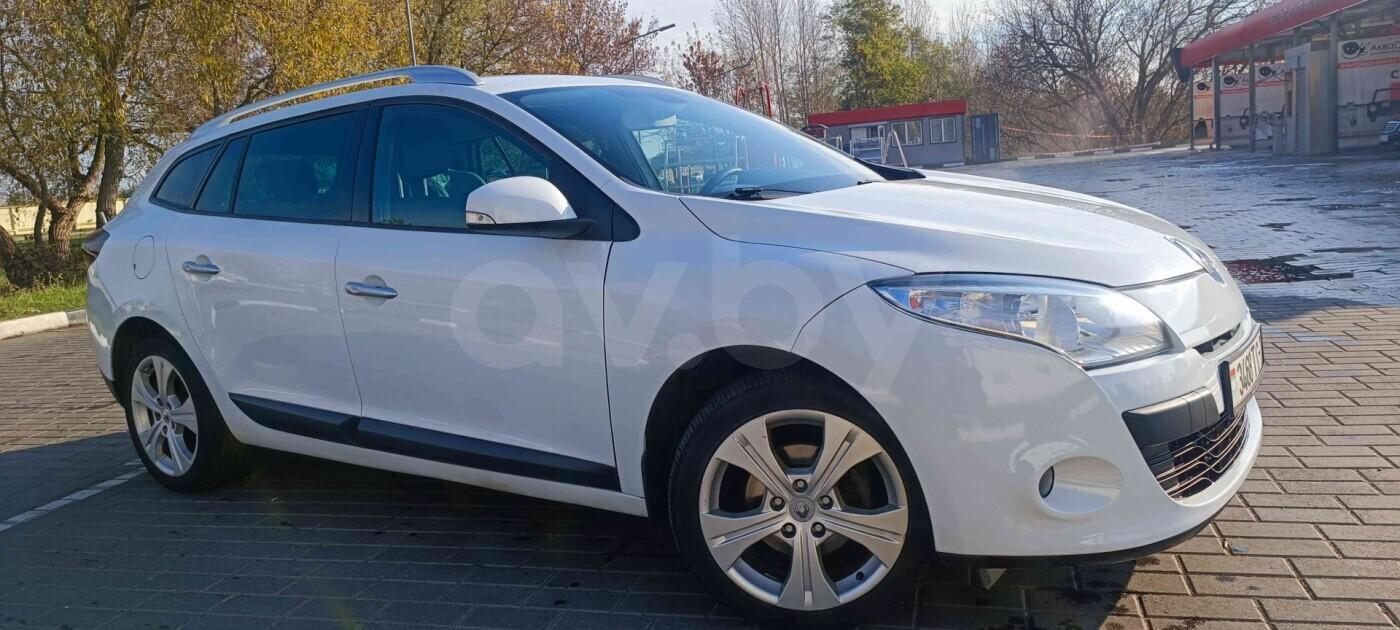Megane_2008-2014: (71, 71, 1274, 614)
